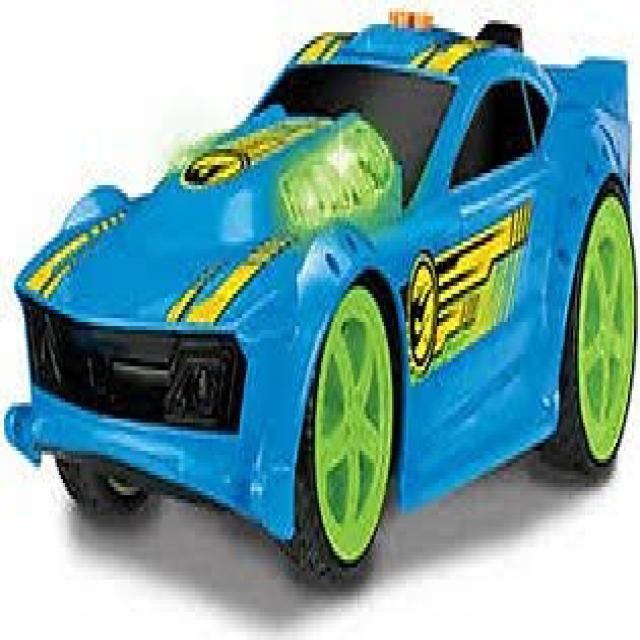Car: (4, 4, 636, 584)
